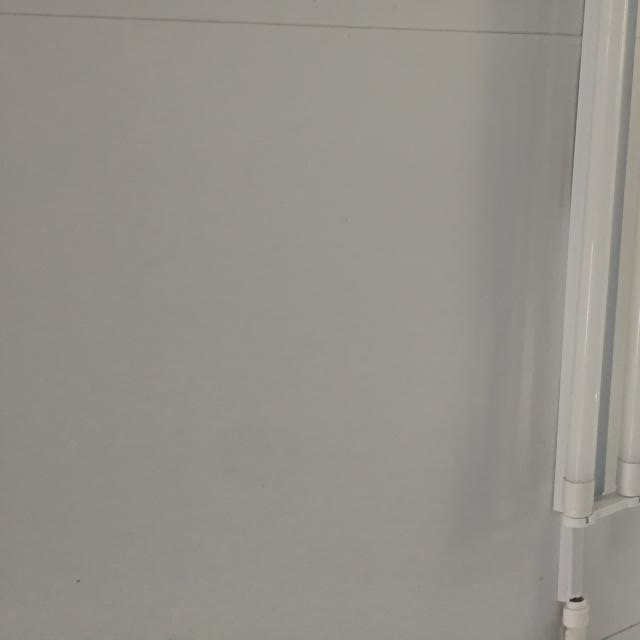fluorescent tube: (522, 1, 640, 555)
